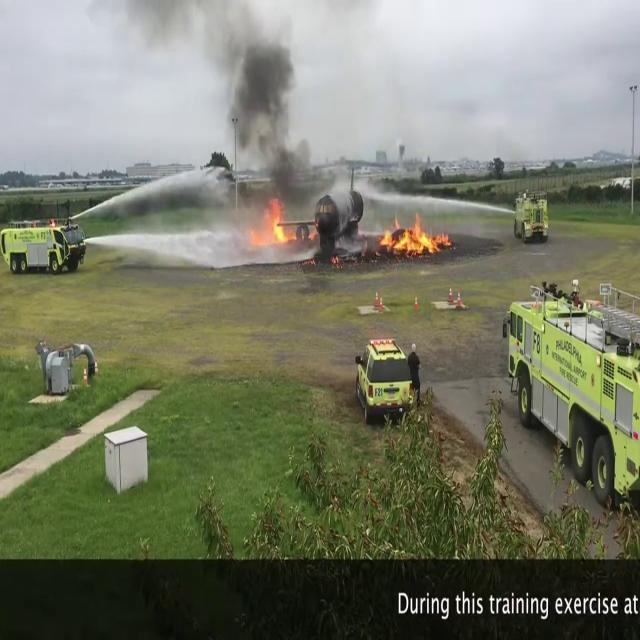Fire: (376, 208, 452, 258), (252, 197, 298, 247)
Smoke: (195, 1, 332, 201)
